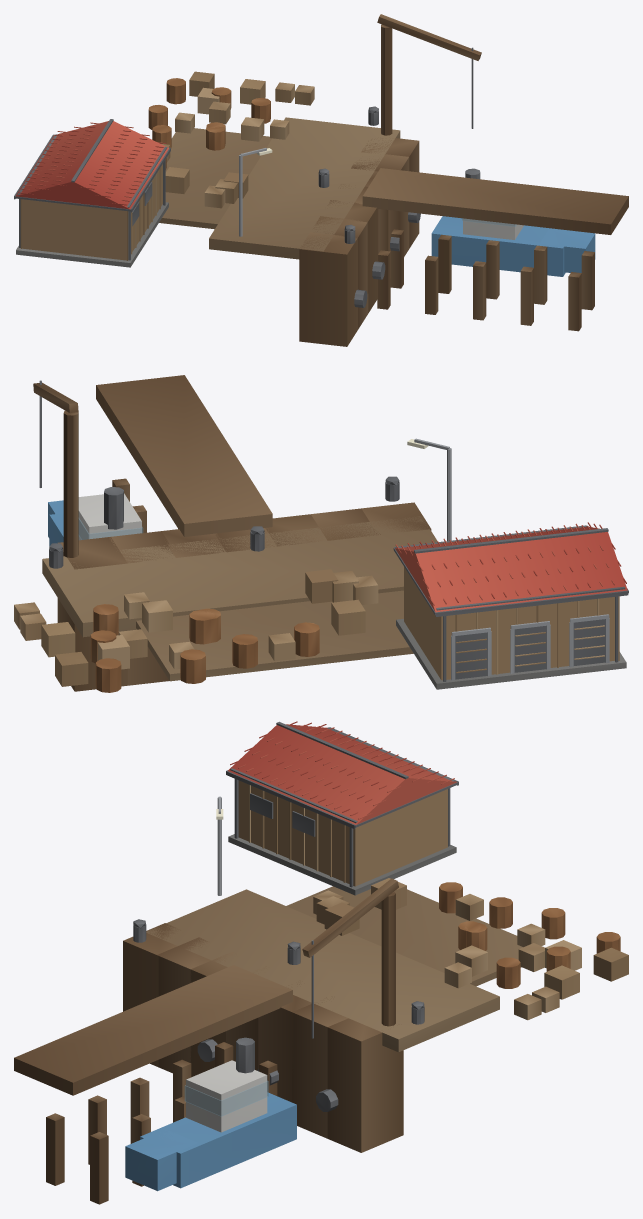
File: Port_P1.fbx
The picture shows the model from 3 angles, top to bottom: view 1: azimuth 30°, elevation 25°; view 2: azimuth 150°, elevation 25°; view 3: azimuth 270°, elevation 25°; orthographic projection. The views are drawn at different scales.
Visible parts, largest first — view 1: Port.Apron, Port.Pier0, Port.Shed, Port.QuayWall, Port.Crates, Port.Boat, Port.Derrick, Port.Lamp0; view 2: Port.Apron, Port.Shed, Port.Pier0, Port.Crates, Port.QuayWall, Port.Boat, Port.Derrick, Port.Lamp0; view 3: Port.Shed, Port.Apron, Port.QuayWall, Port.Pier0, Port.Boat, Port.Crates, Port.Derrick.
Boxes of the visible parts, x1,y1,x2,y2 form: Port.Apron: (159,117,400,259); Port.Pier0: (362,168,628,331); Port.Shed: (14,119,170,267); Port.QuayWall: (299,138,420,346); Port.Crates: (148,71,314,208); Port.Boat: (431,168,595,276); Port.Derrick: (377,14,481,135); Port.Lamp0: (239,148,272,236); Port.Apron: (42,516,437,681); Port.Shed: (393,522,628,689); Port.Pier0: (96,375,272,536); Port.Crates: (14,569,378,692); Port.QuayWall: (57,502,431,691); Port.Boat: (48,487,143,545); Port.Derrick: (33,380,78,557); Port.Lamp0: (407,438,451,540); Port.Shed: (226,721,458,895); Port.Apron: (146,886,522,1052); Port.QuayWall: (123,923,403,1152); Port.Pier0: (14,965,292,1204); Port.Boat: (125,1037,296,1191); Port.Crates: (313,878,628,1020); Port.Derrick: (302,878,398,1038).
Size of the model in its own units: 5952 by 2495 by 5145.
